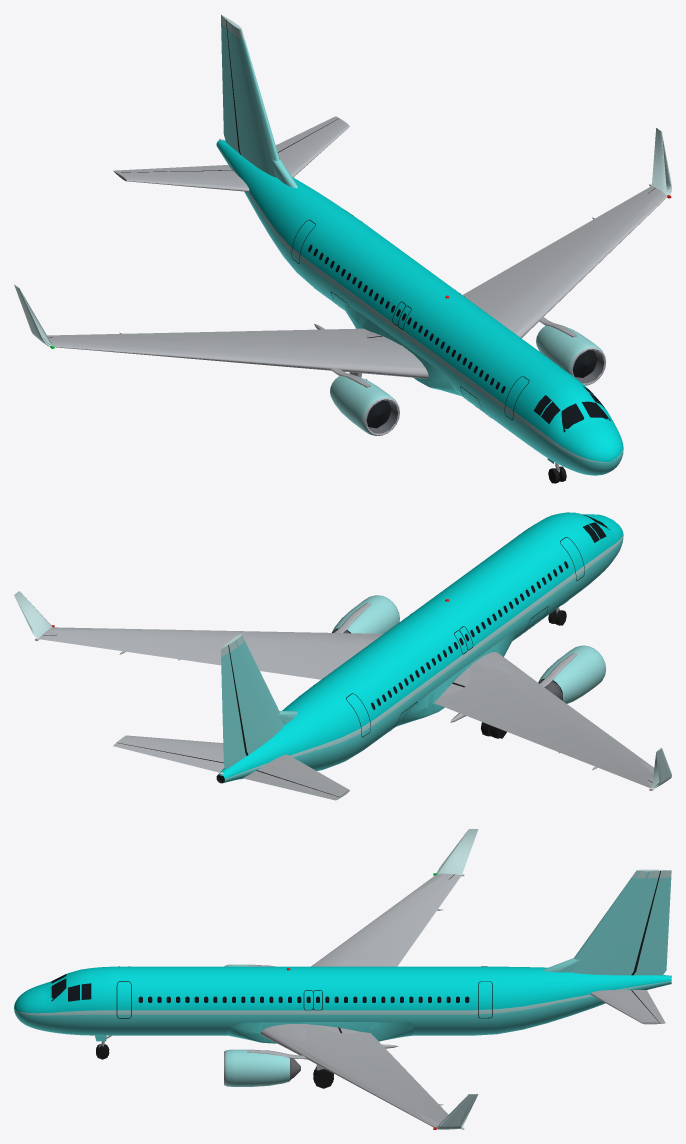
The model's file is ac-narrowbody.glb.
3 views of the same model, one above another, from view 1: azimuth 30°, elevation 25°; view 2: azimuth 150°, elevation 25°; view 3: azimuth 270°, elevation 25° (orthographic). The views are drawn at different scales.
Parts seen in each view (by area): view 1: lod0_body, lod2_body, lod1_body; view 2: lod0_body, lod2_body, lod1_body, lod1_gear; view 3: lod0_body, lod2_body, lod1_body, lod1_gear.
Part boxes in pixels (left/top/right/bottom): lod0_body: left=14, top=14, right=671, bottom=475; lod2_body: left=17, top=29, right=667, bottom=468; lod1_body: left=15, top=24, right=671, bottom=475; lod0_body: left=14, top=512, right=671, bottom=800; lod2_body: left=14, top=514, right=660, bottom=799; lod1_body: left=14, top=514, right=671, bottom=796; lod1_gear: left=481, top=600, right=568, bottom=738; lod0_body: left=14, top=829, right=671, bottom=1129; lod2_body: left=21, top=829, right=669, bottom=1127; lod1_body: left=19, top=829, right=671, bottom=1127; lod1_gear: left=95, top=1035, right=333, bottom=1088.
Bounding box in the file's own units: 35.87 × 11.8 × 37.61.
